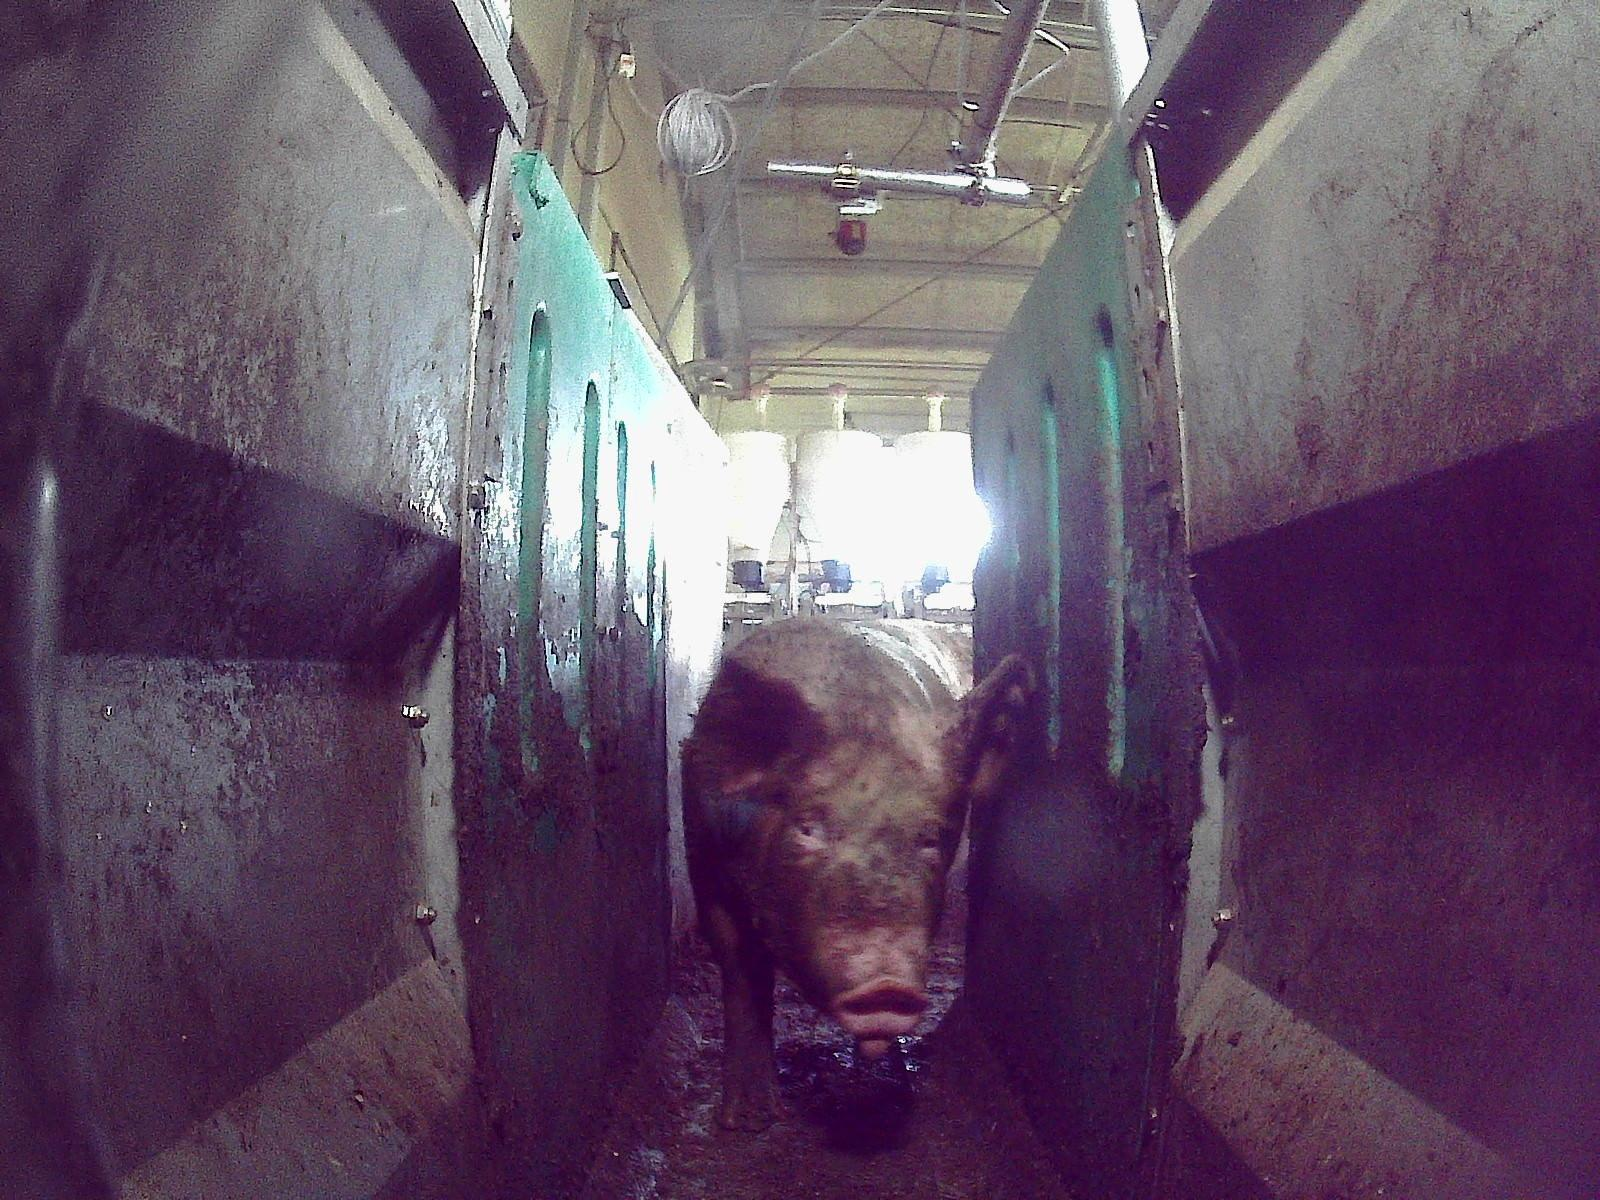Face: (741, 732, 953, 1039)
